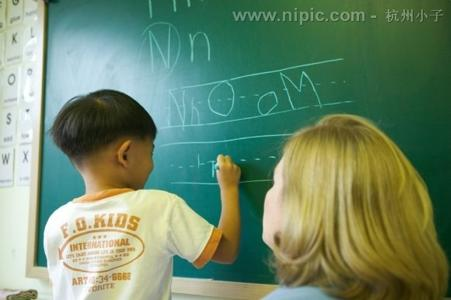person: (44, 90, 241, 300)
